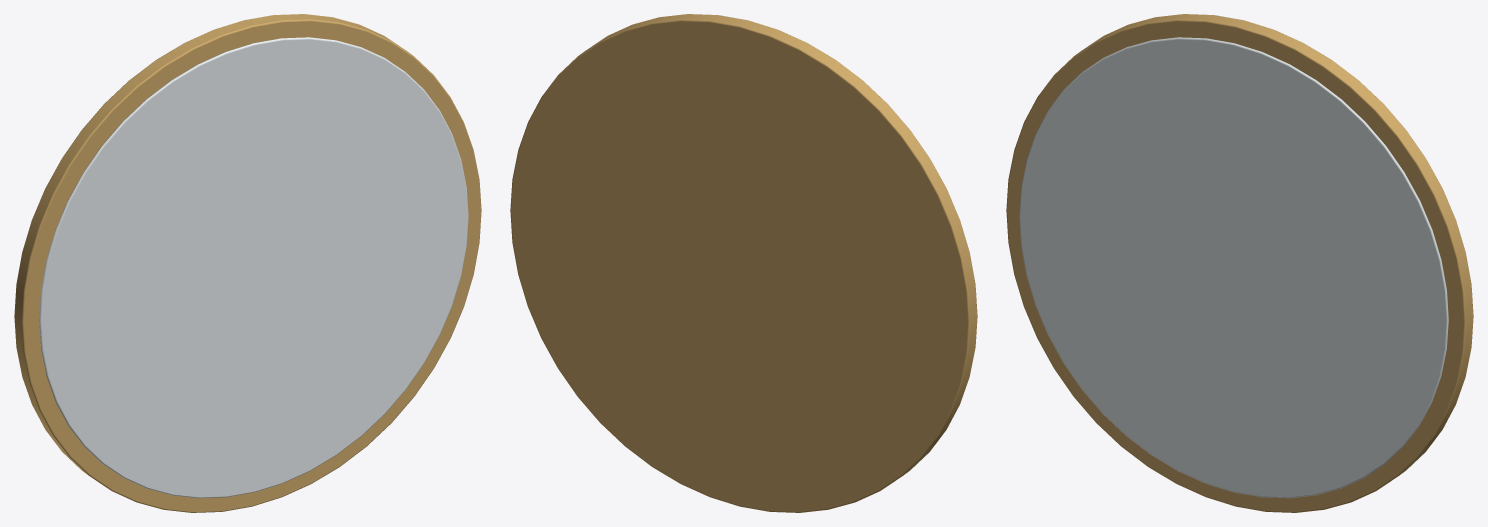
Rendered from plane-mirror.glb.
3 views of the same model, side by side, from view 1: azimuth 30°, elevation 25°; view 2: azimuth 150°, elevation 25°; view 3: azimuth 330°, elevation 25° (orthographic).
Parts seen in each view (by area): view 1: mirror; view 2: mirror; view 3: mirror.
Part boxes in pixels (x1,y1,x2,y2): mirror: (14,14,481,512); mirror: (510,14,977,512); mirror: (1006,14,1473,512).
Size of the model in its own units: 0.9 by 0.9 by 0.038.
